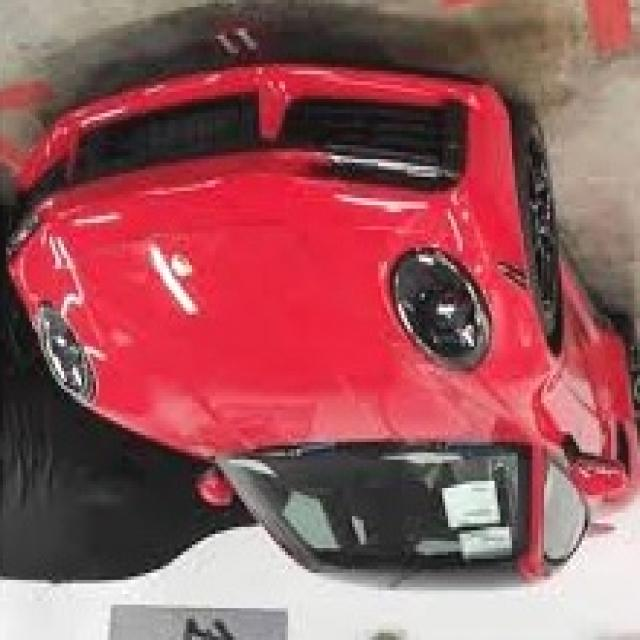red: (0, 74, 638, 586)
